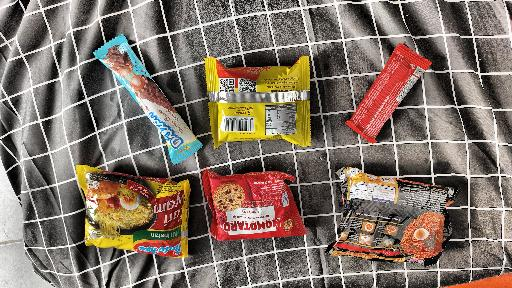chocho: (337, 41, 433, 142)
dilan: (90, 37, 203, 163)
indomie: (71, 161, 191, 260)
mie sedap: (328, 161, 454, 266)
momotaro: (202, 55, 318, 150), (198, 164, 309, 243)
